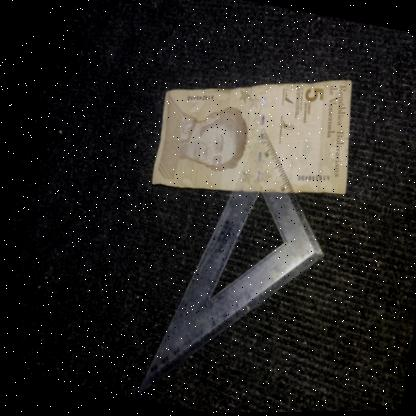five-front-vef: (141, 42, 367, 223)
